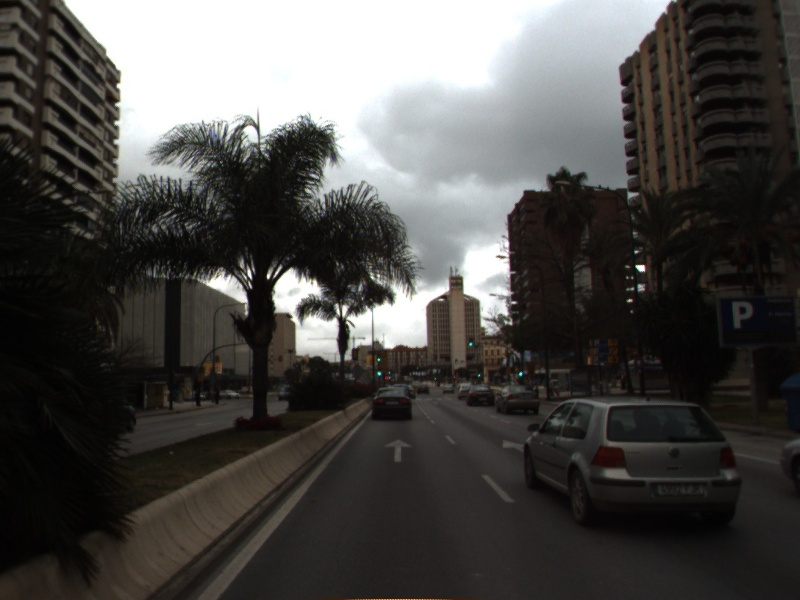STRAIGHT: (382, 437, 415, 464), (500, 437, 527, 454)
